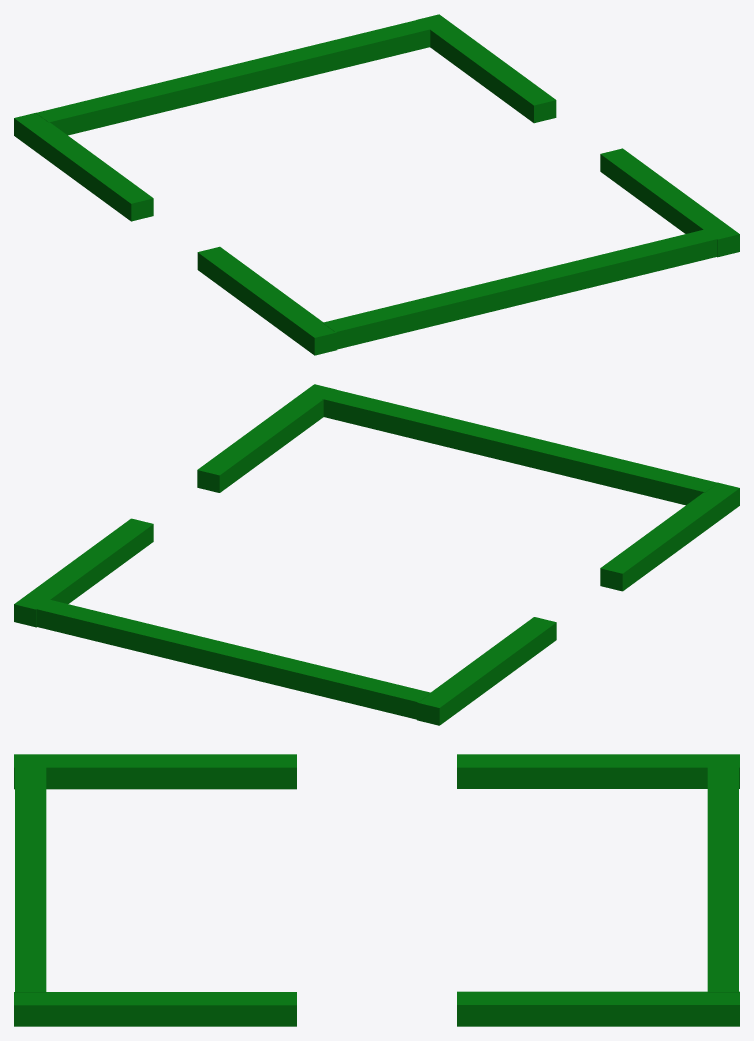
Rendered from Barda03.obj.
3 views of the same model, one above another, from view 1: azimuth 30°, elevation 25°; view 2: azimuth 150°, elevation 25°; view 3: azimuth 270°, elevation 25° (orthographic). The views are drawn at different scales.
Visible parts, largest first — view 1: Barda03; view 2: Barda03; view 3: Barda03.
Boxes of the visible parts, left/top/right/bottom form: Barda03: left=14, top=14, right=739, bottom=355; Barda03: left=14, top=384, right=739, bottom=725; Barda03: left=14, top=754, right=739, bottom=1026.
Bounding box in the file's own units: 14.36 × 0.5783 × 17.56.
